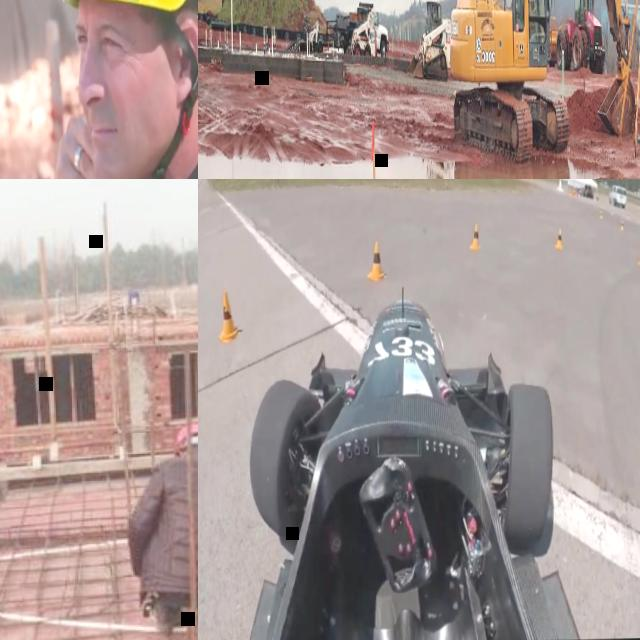Hardhat: (172, 422, 198, 452)
NO-Mask: (76, 55, 169, 179)
NO-Safety Vest: (144, 454, 198, 591)
Person: (31, 0, 198, 179), (124, 415, 198, 640), (272, 179, 280, 188)
Safety Cone: (218, 286, 240, 345), (364, 239, 386, 284), (468, 223, 480, 254), (553, 227, 563, 252), (619, 220, 625, 232), (598, 208, 604, 219), (637, 248, 640, 268)
vehicle: (243, 283, 587, 640), (444, 0, 635, 156), (547, 0, 605, 72), (406, 0, 451, 80), (325, 0, 388, 53), (349, 10, 376, 56), (609, 185, 626, 209)
